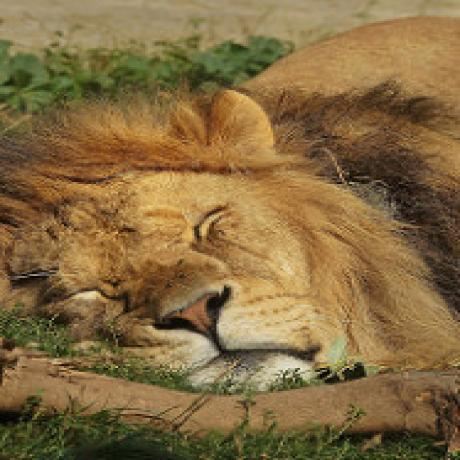Lion: (0, 0, 460, 383)
